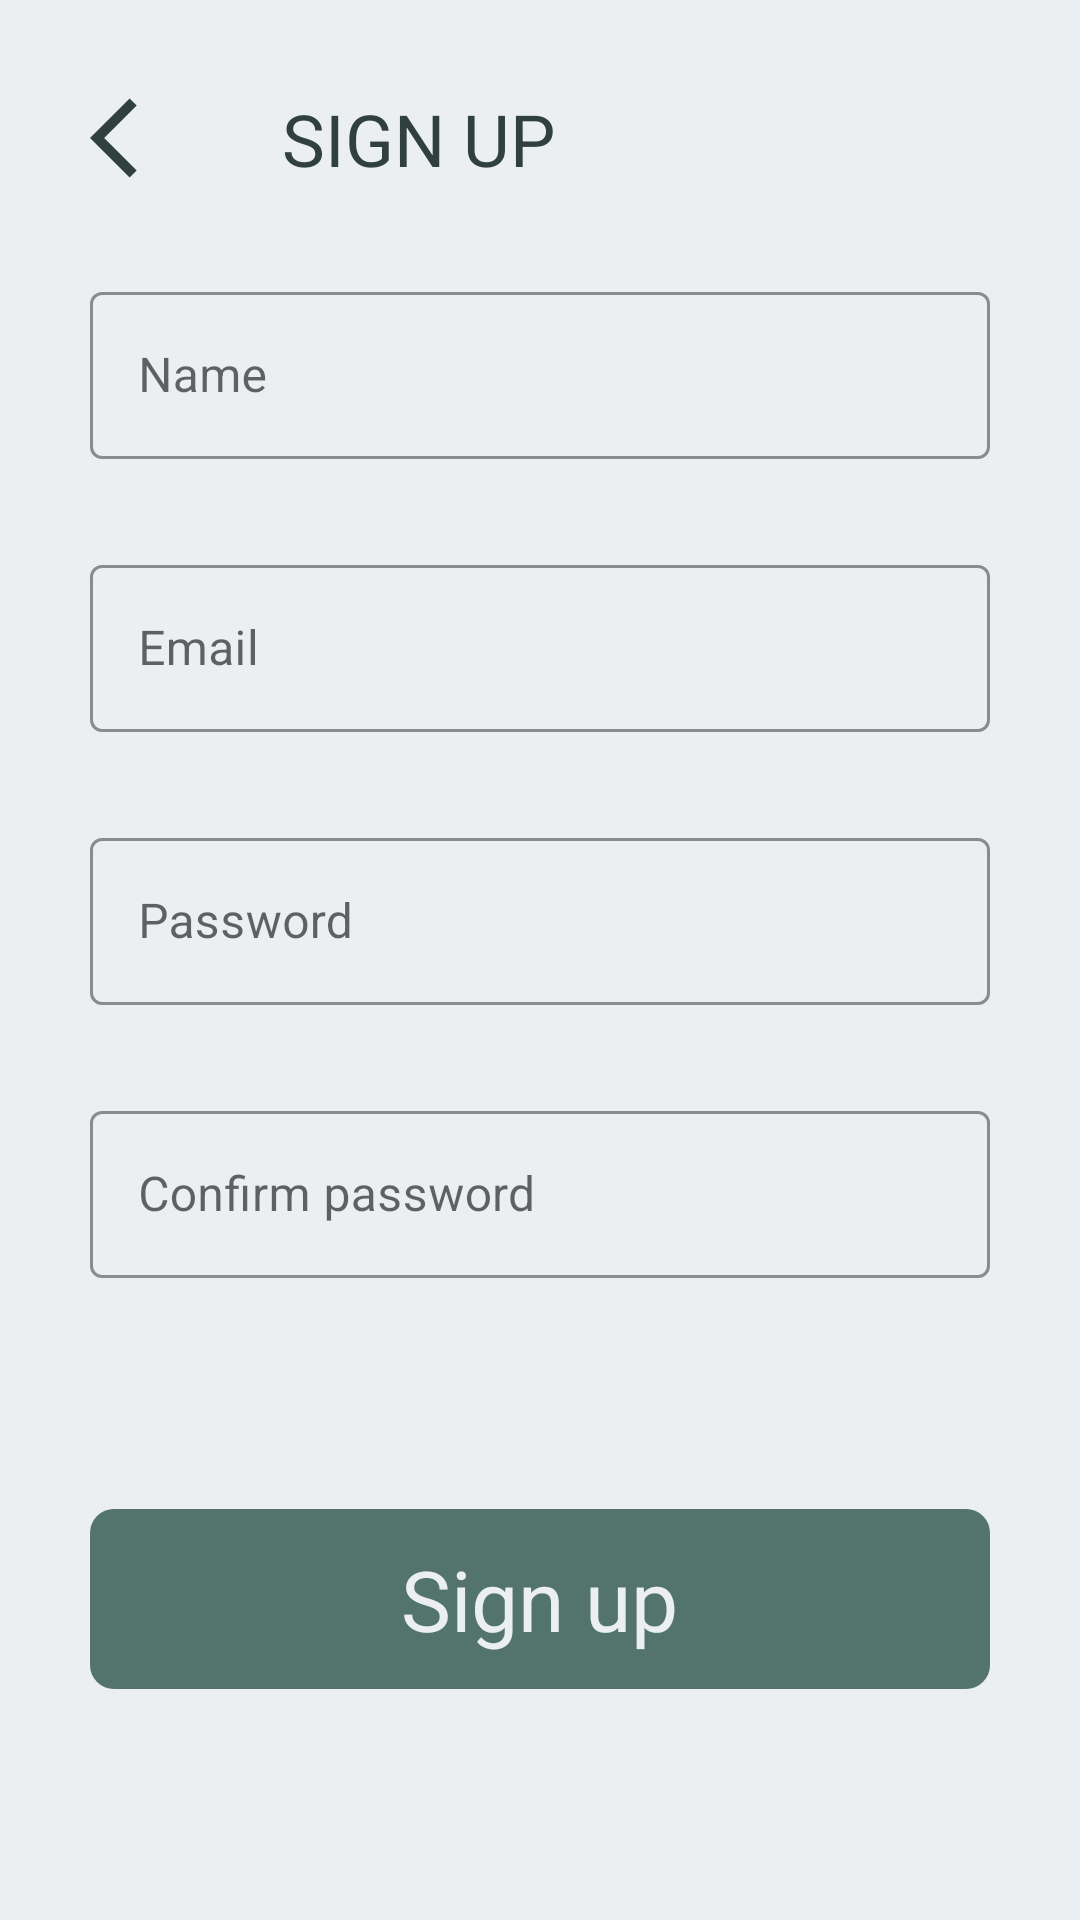

Where icons sit on this 1080×1920 app screen, as bbox(x1, y1, x2, y2):
back: bbox(90, 98, 137, 178)
